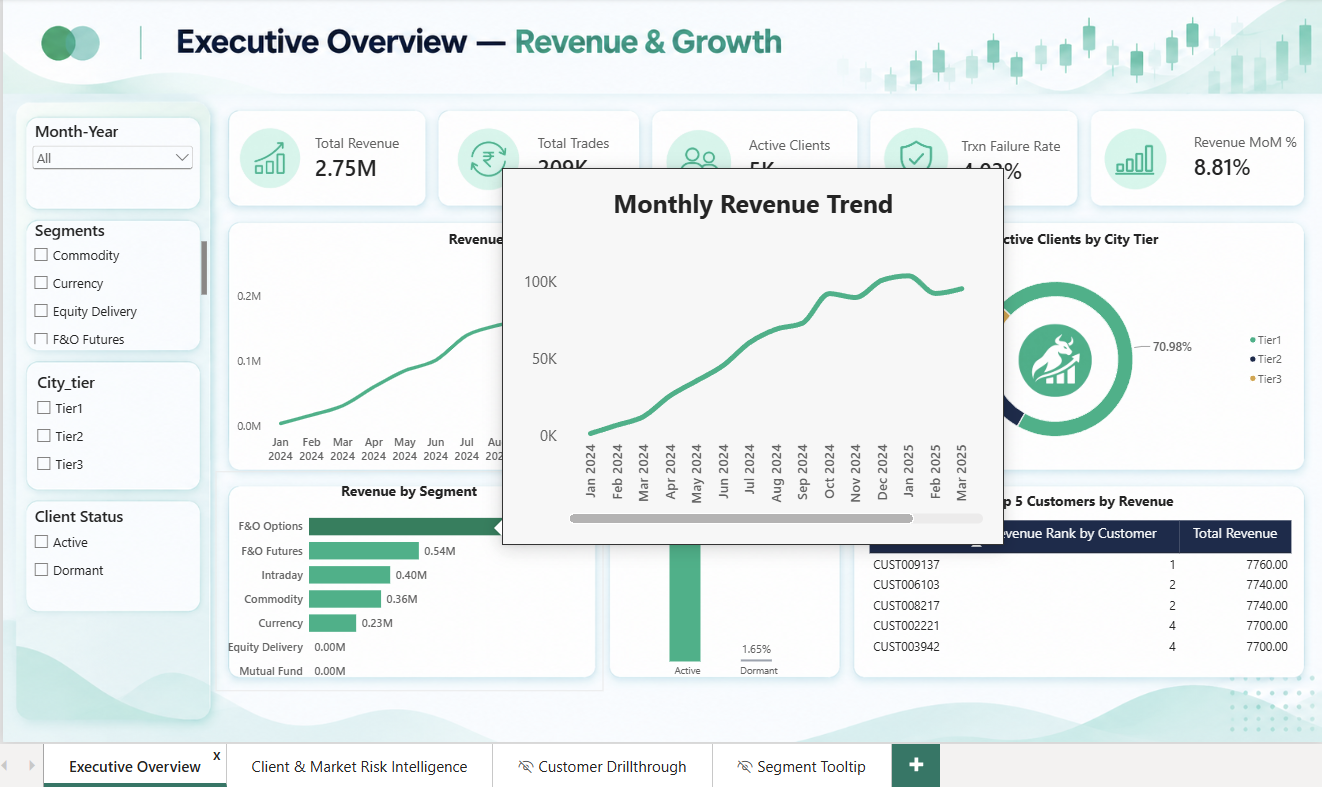

This screenshot's page, from the dashboard's own definition file:
{"tool":"powerbi","page":{"name":"Executive Overview","canvas":[1920,1080],"ordinal":0},"visuals":[{"type":"cardVisual","fields":{"Data":["Measures (2).Total Revenue"]},"box":[421.7,158.3,191.7,145],"z":0},{"type":"cardVisual","title":"Transaction Failure Rate","fields":{"Data":["Measures (2).Transaction Failure Rate"]},"box":[1361.7,180,233.3,111.7],"z":1000},{"type":"cardVisual","fields":{"Data":["Measures (2).Active Clients"]},"box":[1053.3,158.3,201.7,151.7],"z":2000},{"type":"cardVisual","fields":{"Data":["Measures (2).Total Trades"]},"box":[745,155,183.3,151.7],"z":3000},{"type":"lineChart","title":"Revenue Trend by Month","fields":{"Category":["Dim_Date.Month-Year"],"Y":["Measures (2).Total Revenue"]},"box":[323.3,318.3,885,375],"z":4000},{"type":"barChart","title":"Revenue by Segment","fields":{"Category":["Dim_Product.segment"],"Y":["Measures (2).Total Revenue"]},"box":[309.5,685.9,562.8,320.3],"z":5000},{"type":"donutChart","title":"Active Clients by City Tier","fields":{"Category":["Dim_Customer.city_tier"],"Y":["Measures (2).Active Clients"]},"box":[1235,318.3,651.7,366.7],"z":6000},{"type":"slicer","fields":{"Values":["Dim_Date.Month-Year"]},"box":[38,173.7,242.5,126.7],"z":7000},{"type":"slicer","fields":{"Values":["Dim_Product.segment"]},"box":[38,318.5,258.8,182.8],"z":8000},{"type":"slicer","fields":{"Values":["Dim_Customer.city_tier"]},"box":[41.6,539.3,238.9,166.5],"z":9000},{"type":"tableEx","title":"Top 5 Customers by Revenue","fields":{"Values":["Dim_Customer.customer_id","Measures (2).Revenue Rank by Customer","Measures (2).Total Revenue"]},"box":[1242.9,699.1,647.4,307.5],"z":10000},{"type":"columnChart","title":"Revenue - Active vs Dormant Clients","fields":{"Category":["Dim_Customer.Client Status"],"Y":["Measures (2).Revenue Share %"]},"box":[859.6,685.9,374.6,320.3],"z":11000},{"type":"cardVisual","fields":{"Data":["Measures (2).Revenue MoM %"]},"box":[1700,156.7,220,145],"z":12000},{"type":"slicer","fields":{"Values":["Dim_Customer.Client Status"]},"box":[38,734.7,258.8,159.3],"z":13000},{"type":"image","box":[310,176.7,150,110],"z":14000},{"type":"image","box":[633.3,176.7,146.7,113.3],"z":15000},{"type":"image","box":[928.3,178.3,175,118.3],"z":16000},{"type":"image","box":[1241.7,173.3,170,120],"z":17000},{"type":"image","box":[1566.7,175,168.3,116.7],"z":18000},{"type":"image","box":[1423.3,451.7,213.3,146.7],"z":19000}]}

Visuals, with their boxes on the page's 1920x1080 design canvas (x1, y1, x2, y2). These are canvas units, not pixel positions in the 1322x787 screenshot, which may show the page scaled, cropped or inside an application window:
cardVisual - Measures (2).Total Revenue: <region>422, 158, 613, 303</region>
"Transaction Failure Rate" cardVisual: <region>1362, 180, 1595, 292</region>
cardVisual - Measures (2).Active Clients: <region>1053, 158, 1255, 310</region>
cardVisual - Measures (2).Total Trades: <region>745, 155, 928, 307</region>
"Revenue Trend by Month" lineChart: <region>323, 318, 1208, 693</region>
"Revenue by Segment" barChart: <region>310, 686, 872, 1006</region>
"Active Clients by City Tier" donutChart: <region>1235, 318, 1887, 685</region>
slicer - Dim_Date.Month-Year: <region>38, 174, 280, 300</region>
slicer - Dim_Product.segment: <region>38, 318, 297, 501</region>
slicer - Dim_Customer.city_tier: <region>42, 539, 280, 706</region>
"Top 5 Customers by Revenue" tableEx: <region>1243, 699, 1890, 1007</region>
"Revenue - Active vs Dormant Clients" columnChart: <region>860, 686, 1234, 1006</region>
cardVisual - Measures (2).Revenue MoM %: <region>1700, 157, 1920, 302</region>
slicer - Dim_Customer.Client Status: <region>38, 735, 297, 894</region>
image: <region>310, 177, 460, 287</region>
image: <region>633, 177, 780, 290</region>
image: <region>928, 178, 1103, 297</region>
image: <region>1242, 173, 1412, 293</region>
image: <region>1567, 175, 1735, 292</region>
image: <region>1423, 452, 1637, 598</region>
